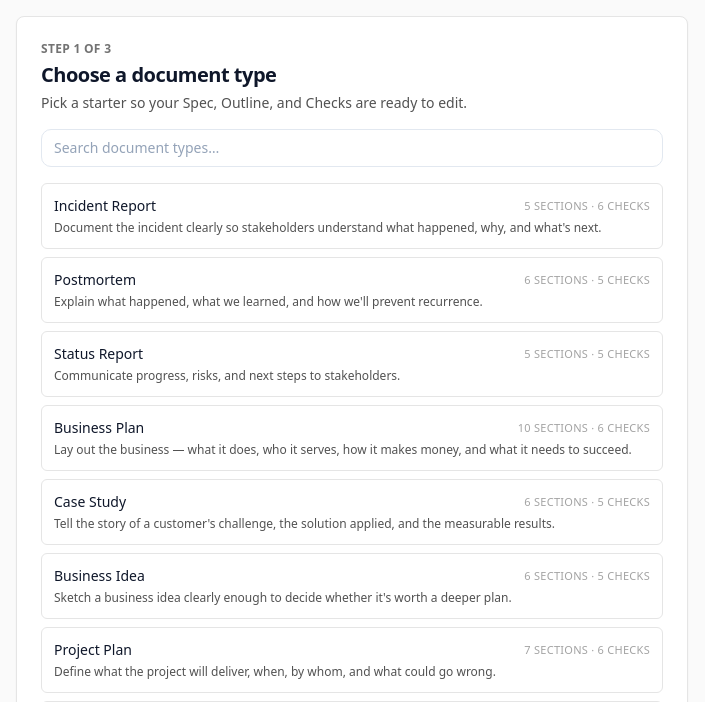
Scenario: OnboardingWizard step 2 (preview preloaded outline + checks) › inputs on step 2 are read-only — outline preview is not editable
Click the button "Status Report" at {"x": 352, "y": 364}, box [41,331,663,397]
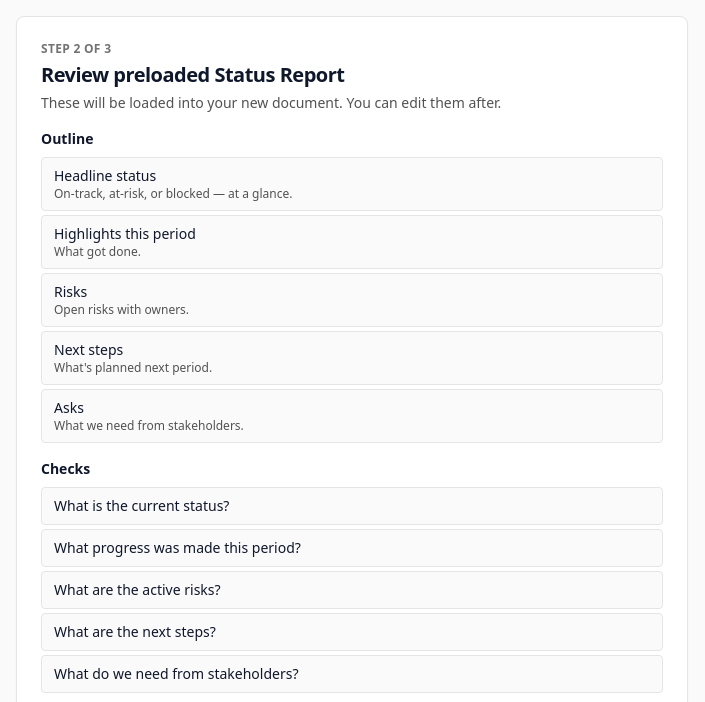
Now the field is gone
